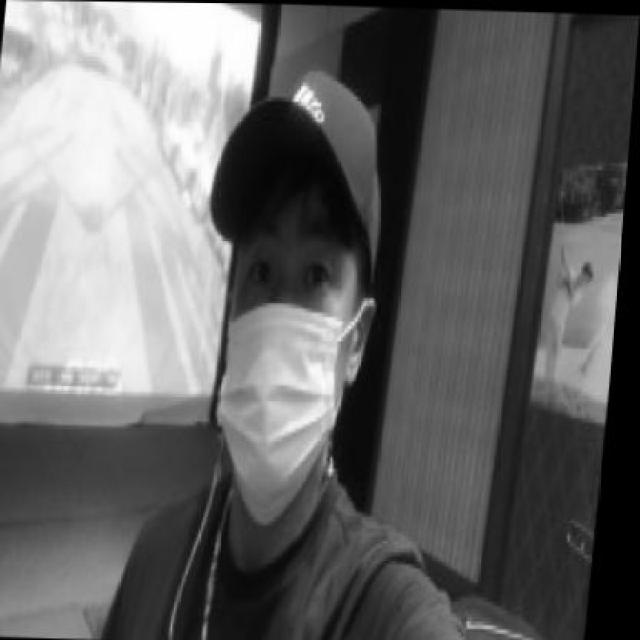hat: (204, 64, 398, 291)
